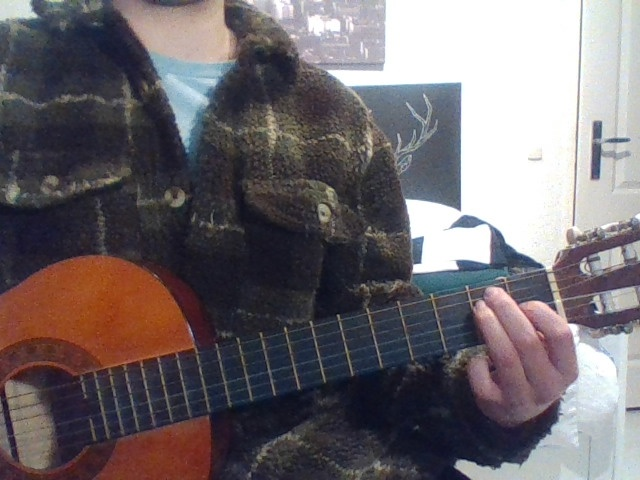E: (445, 254, 602, 457)
